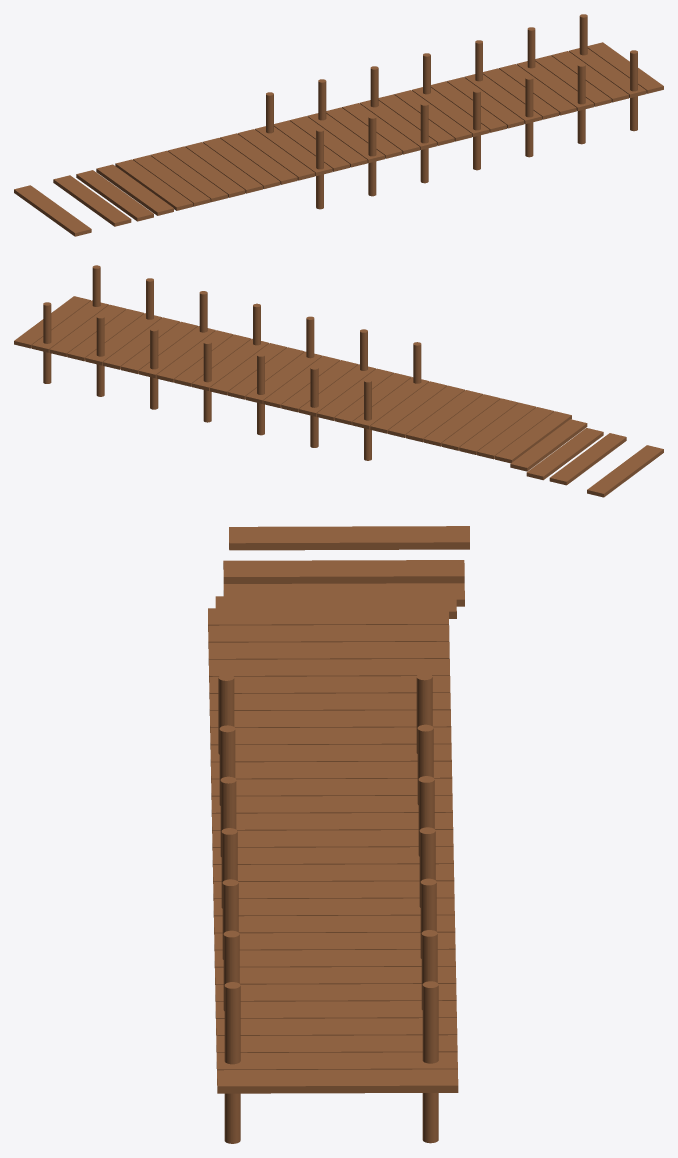
File: Lee_Dock.fbx
3 views of the same model, one above another, from view 1: azimuth 30°, elevation 25°; view 2: azimuth 150°, elevation 25°; view 3: azimuth 270°, elevation 25° (orthographic). The views are drawn at different scales.
Visible parts, largest first — view 1: Dock.009, Cylinder.090, Dock.008, Dock.006, Dock.005, Dock.007; view 2: Dock.009, Cylinder.090, Dock.007, Dock.006, Dock.008, Dock.005; view 3: Dock.009, Cylinder.090, Dock.005, Dock.006, Dock.007, Dock.008.
Boxes of the visible parts, <box> form: Dock.009: <box>115,42,663,210</box>; Cylinder.090: <box>266,14,637,209</box>; Dock.008: <box>96,164,173,215</box>; Dock.006: <box>53,175,131,226</box>; Dock.005: <box>14,185,91,236</box>; Dock.007: <box>76,170,153,221</box>; Dock.009: <box>14,296,571,463</box>; Cylinder.090: <box>43,265,421,460</box>; Dock.007: <box>526,428,603,480</box>; Dock.006: <box>549,433,626,485</box>; Dock.008: <box>510,419,587,471</box>; Dock.005: <box>587,445,663,497</box>; Dock.009: <box>208,607,458,1093</box>; Cylinder.090: <box>218,673,438,1143</box>; Dock.005: <box>229,526,469,550</box>; Dock.006: <box>223,560,464,583</box>; Dock.007: <box>223,583,464,606</box>; Dock.008: <box>215,595,456,618</box>.
Size of the model in its own units: 5270 by 666 by 1020.
